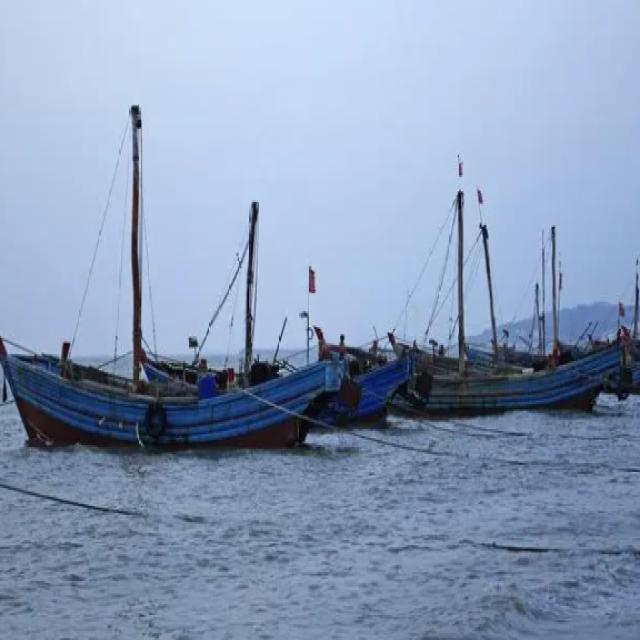fishing boat: (0, 201, 342, 444), (338, 255, 622, 414), (228, 274, 420, 432), (456, 226, 567, 380), (553, 268, 640, 386)
